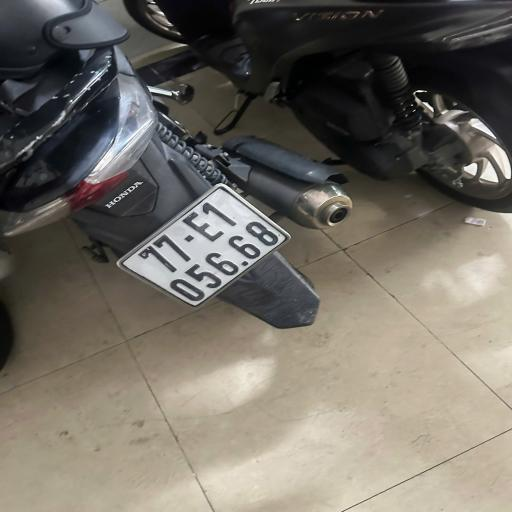0: (166, 274, 218, 314)
1: (204, 201, 254, 228)
5: (186, 262, 232, 298)
6: (226, 231, 264, 265), (204, 247, 242, 277)
7: (128, 244, 185, 280), (156, 229, 204, 268)
8: (243, 219, 291, 251)
E: (184, 209, 230, 248)
